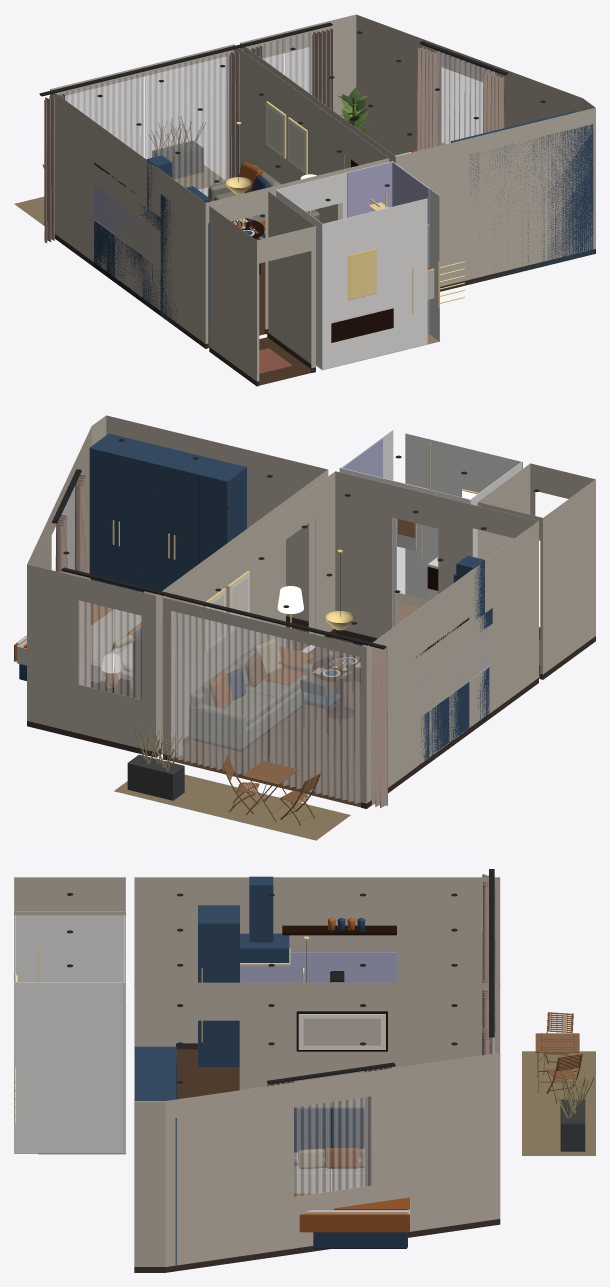
File: unit-1.B-lisboa.glb
The picture shows the model from 3 angles, top to bottom: view 1: azimuth 30°, elevation 25°; view 2: azimuth 150°, elevation 25°; view 3: azimuth 270°, elevation 25°; orthographic projection. The views are drawn at different scales.
Visible parts, largest first — view 1: int-wall, int-sheer, int-bathWall, int-curtain, int-joineryTall, int-showerWall, int-metal, int-joinery, int-matteBlack, int-skirting, int-wood, int-splash (+10 smaller); view 2: int-wall, int-sheer, int-joineryTall, int-floor, int-bathWall, int-curtain, int-sofa, int-deck, int-joinery, int-glass, int-skirting, int-wood (+16 smaller); view 3: int-wall, int-bathWall, int-joineryTall, int-sheer, int-deck, int-headboard, int-splash, int-joinery, int-bedThrow, int-art:7:1, int-floor, int-curtain (+13 smaller).
Part boxes in pixels (x1,y1,x2,y2): int-wall: [50, 14, 595, 381]; int-sheer: [58, 30, 494, 196]; int-bathWall: [275, 161, 439, 369]; int-curtain: [44, 28, 504, 243]; int-joineryTall: [160, 111, 593, 328]; int-showerWall: [347, 161, 429, 333]; int-metal: [139, 101, 464, 314]; int-joinery: [94, 155, 172, 308]; int-matteBlack: [39, 22, 508, 315]; int-skirting: [55, 234, 595, 386]; int-wood: [94, 159, 393, 342]; int-splash: [94, 185, 160, 256]; int-wall: [27, 415, 595, 803]; int-sheer: [55, 486, 360, 803]; int-joineryTall: [89, 433, 456, 592]; int-floor: [171, 621, 370, 807]; int-bathWall: [339, 430, 522, 627]; int-curtain: [55, 474, 387, 807]; int-sofa: [189, 641, 314, 749]; int-deck: [114, 774, 350, 840]; int-joinery: [421, 555, 492, 762]; int-glass: [397, 519, 429, 607]; int-skirting: [27, 616, 595, 808]; int-wood: [94, 567, 469, 718]; int-wall: [14, 877, 500, 1266]; int-bathWall: [14, 915, 125, 1153]; int-joineryTall: [134, 905, 239, 1271]; int-sheer: [294, 885, 495, 1196]; int-deck: [522, 1051, 595, 1155]; int-headboard: [294, 1107, 407, 1248]; int-splash: [240, 952, 396, 982]; int-joinery: [240, 876, 289, 962]; int-bedThrow: [294, 1194, 409, 1232]; int-art:7:1: [303, 1018, 380, 1045]; int-floor: [176, 1049, 239, 1099]; int-curtain: [267, 874, 491, 1186].
Size of the model in its own units: 7.77 by 2.8 by 8.26.
